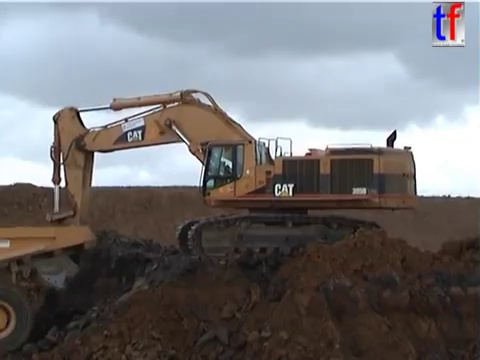excavator: (24, 86, 421, 296)
truck: (1, 222, 97, 355)
